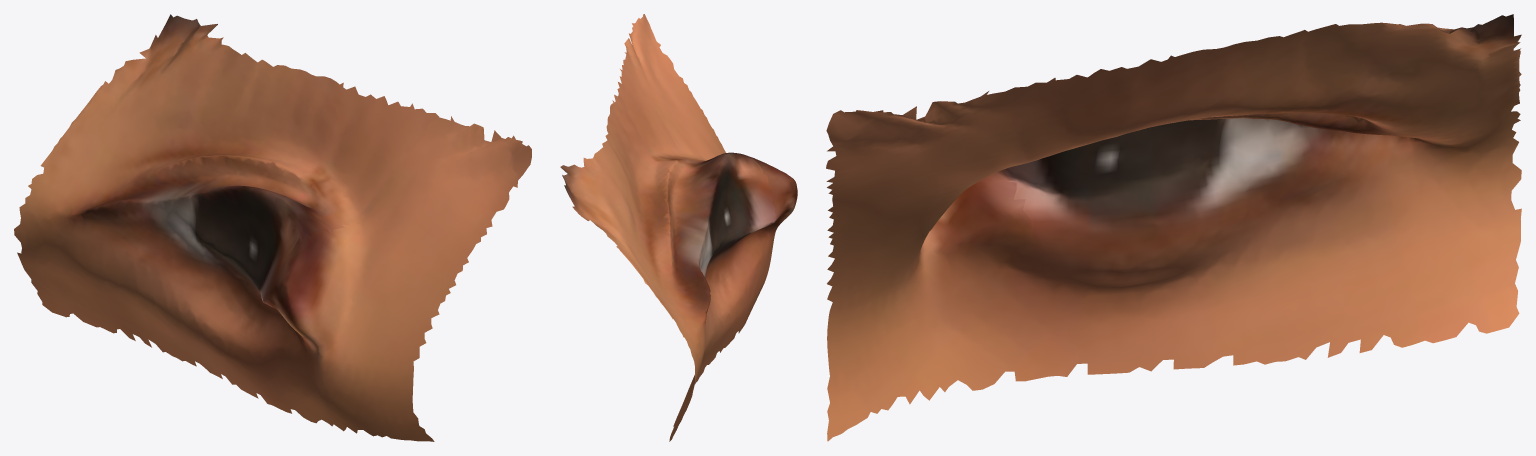
The model's file is COLLIDER_EYE_LEFT.glb.
The picture shows the model from 3 angles, left to right: view 1: azimuth 30°, elevation 25°; view 2: azimuth 150°, elevation 25°; view 3: azimuth 270°, elevation 25°; orthographic projection. The views are drawn at different scales.
Parts seen in each view (by area): view 1: tripo_node_9bab15ef-14f4-426d-8081-19d1b5f2643f; view 2: tripo_node_9bab15ef-14f4-426d-8081-19d1b5f2643f; view 3: tripo_node_9bab15ef-14f4-426d-8081-19d1b5f2643f.
Boxes of the visible parts, bbox=[...] form: tripo_node_9bab15ef-14f4-426d-8081-19d1b5f2643f: bbox=[14, 14, 531, 441]; tripo_node_9bab15ef-14f4-426d-8081-19d1b5f2643f: bbox=[560, 14, 797, 441]; tripo_node_9bab15ef-14f4-426d-8081-19d1b5f2643f: bbox=[826, 14, 1521, 441].
Bounding box in the file's own units: 0.0922 × 0.0827 × 0.1289.
Materials: 1 (1 with a texture image).
